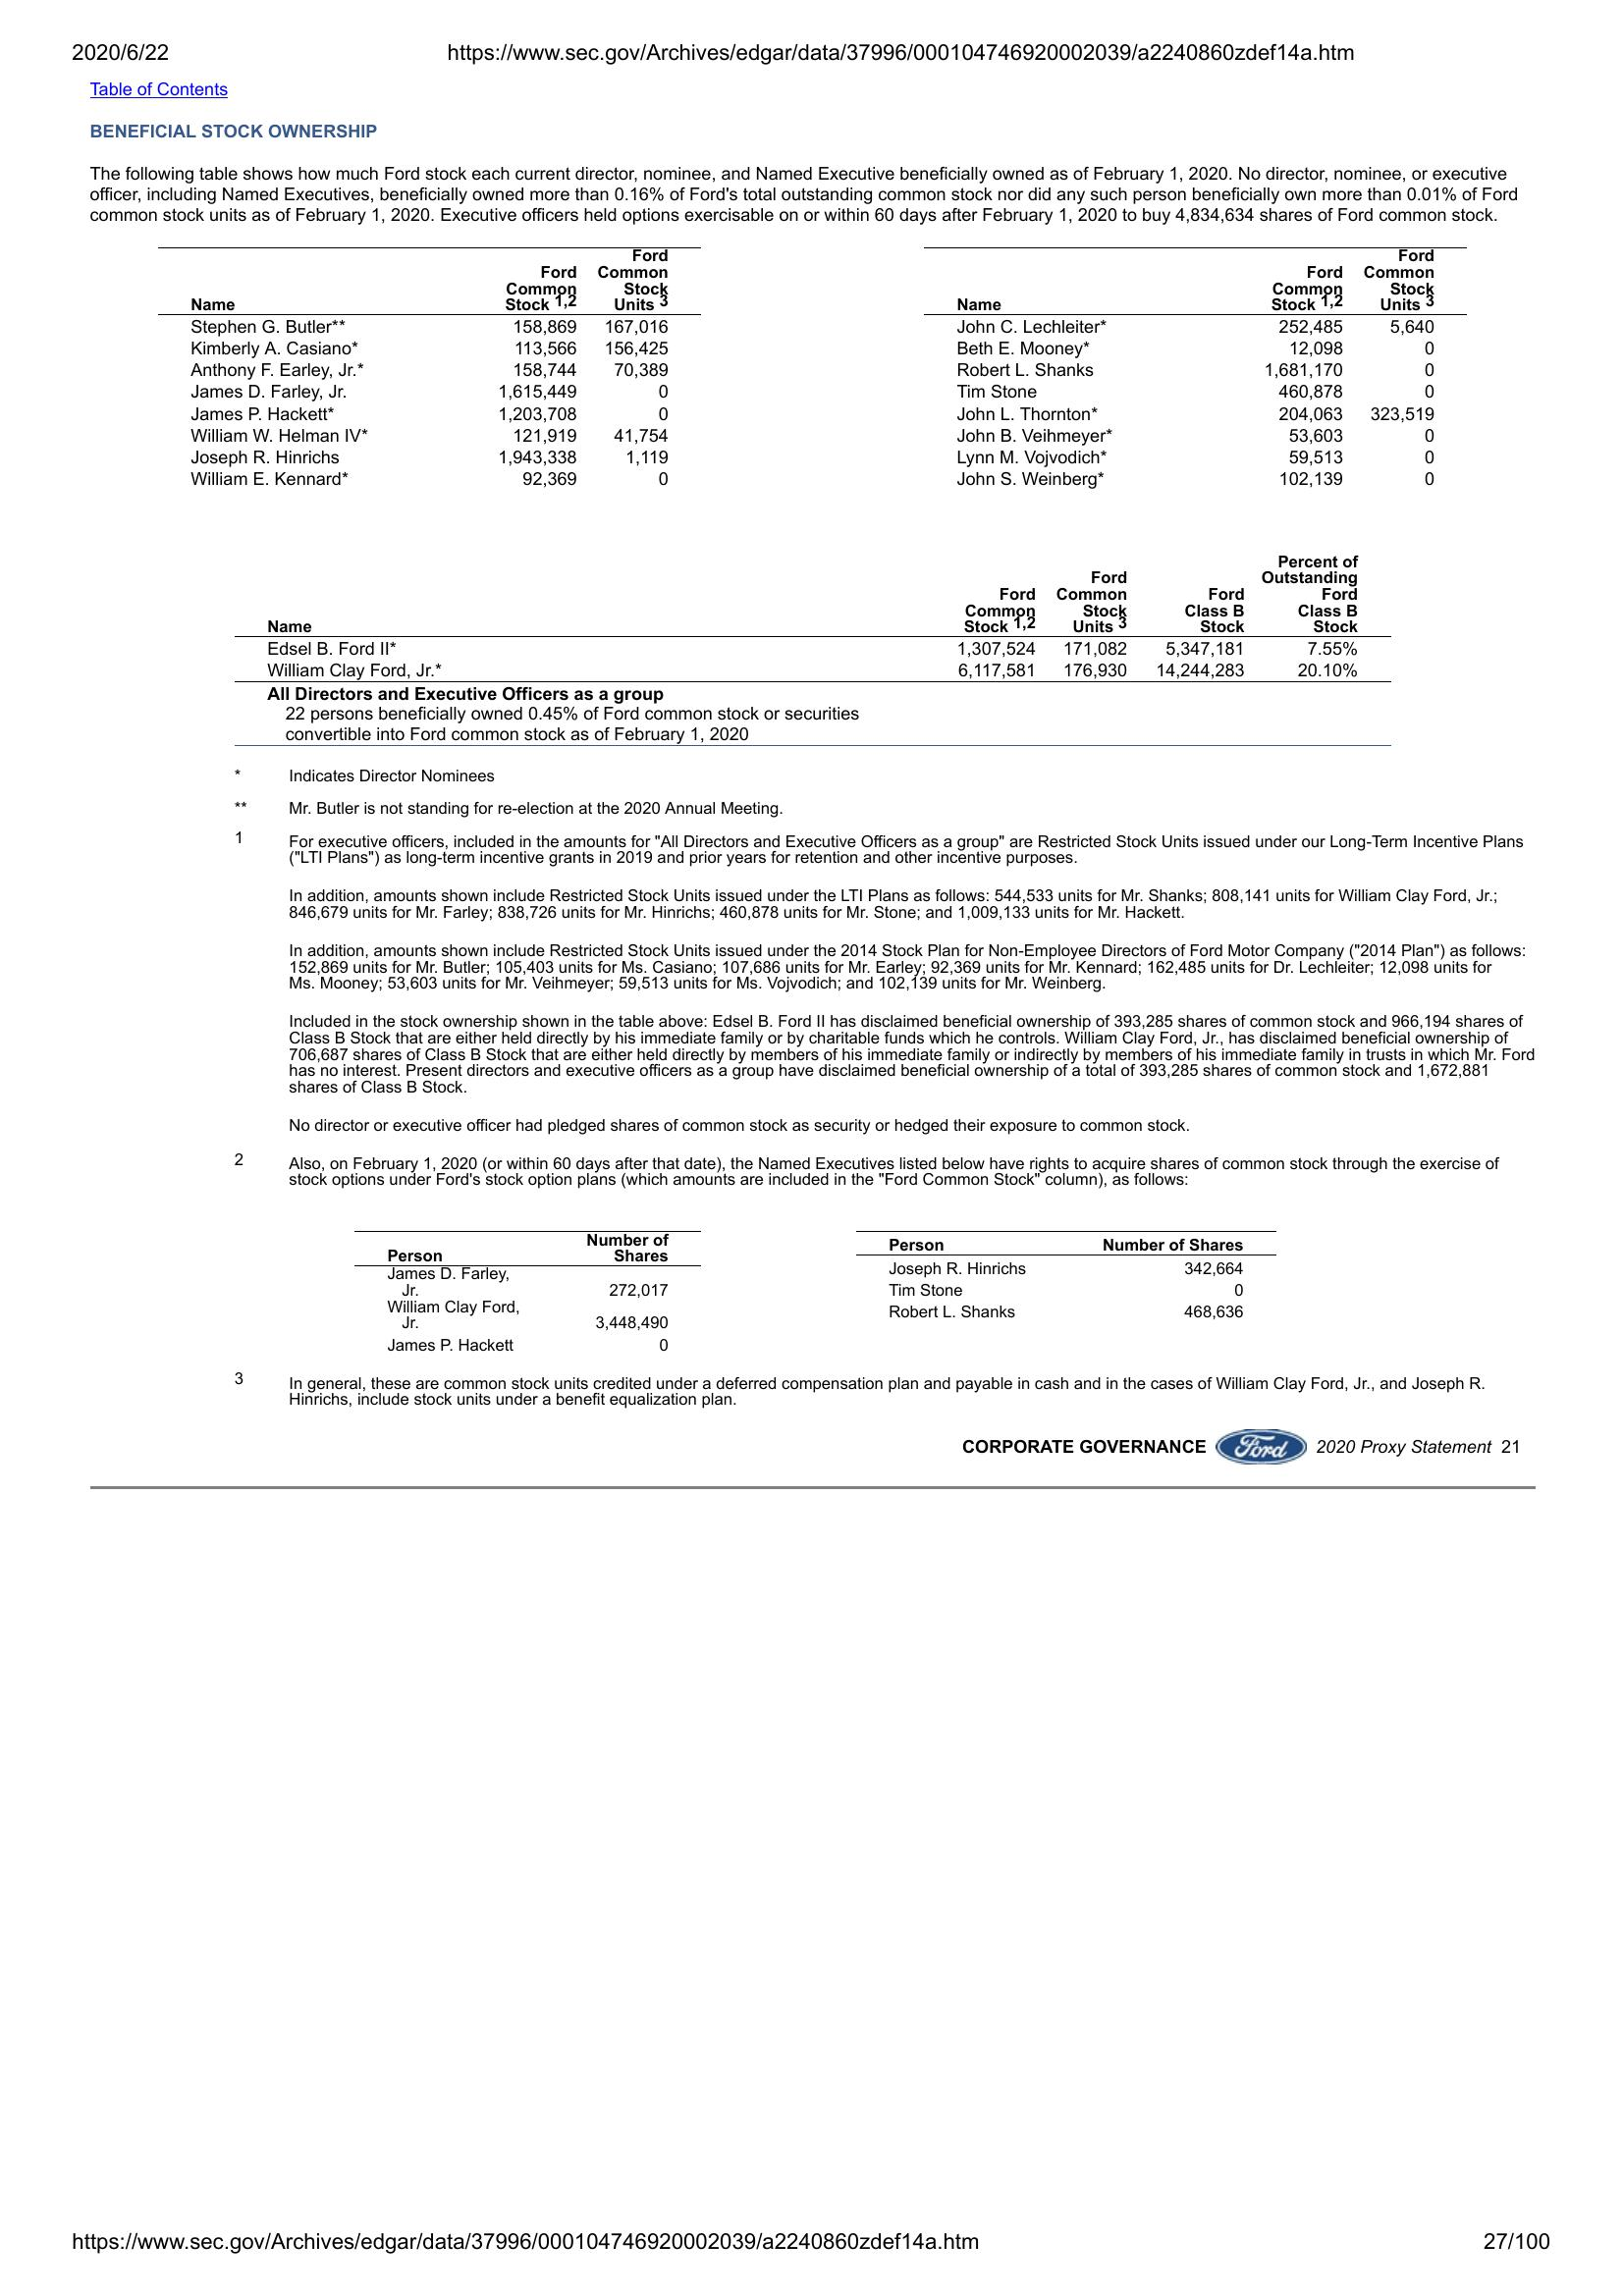table: (177, 237, 1440, 493), (230, 544, 1410, 685), (346, 1222, 704, 1359), (854, 1220, 1284, 1332)
